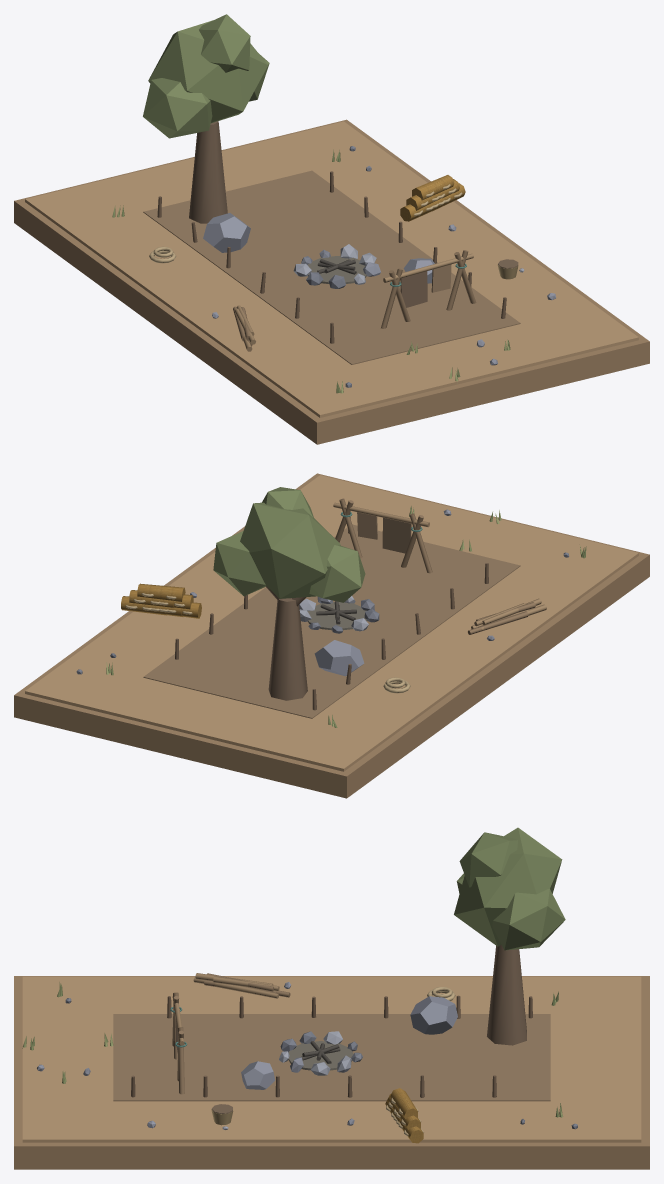
File: num-4-construction.glb
The picture shows the model from 3 angles, top to bottom: view 1: azimuth 30°, elevation 25°; view 2: azimuth 150°, elevation 25°; view 3: azimuth 270°, elevation 25°; orthographic projection. The views are drawn at different scales.
Visible parts, largest first — view 1: era1; view 2: era1; view 3: era1.
Boxes of the visible parts, x1=… form: era1: x1=14, y1=14, x2=649, y2=444; era1: x1=14, y1=473, x2=649, y2=798; era1: x1=14, y1=827, x2=649, y2=1169.
Size of the model in its own units: 14.38 by 9.06 by 22.4.
23 materials, 1 textured.
